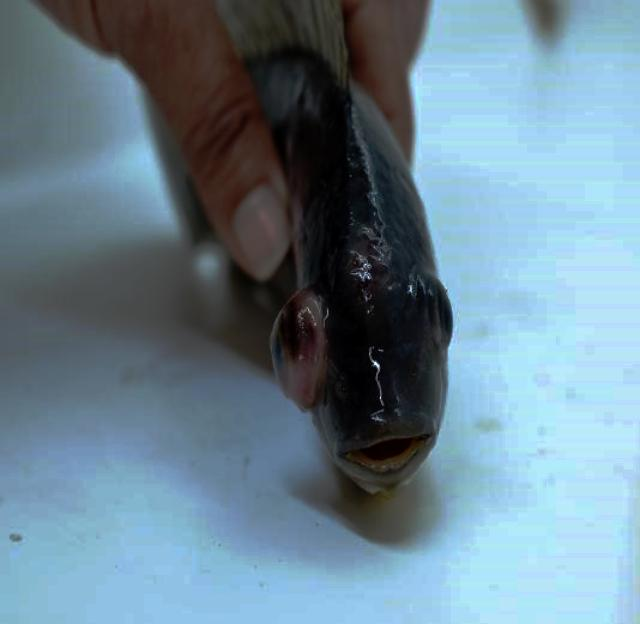Streptococcus: (221, 3, 451, 493)
